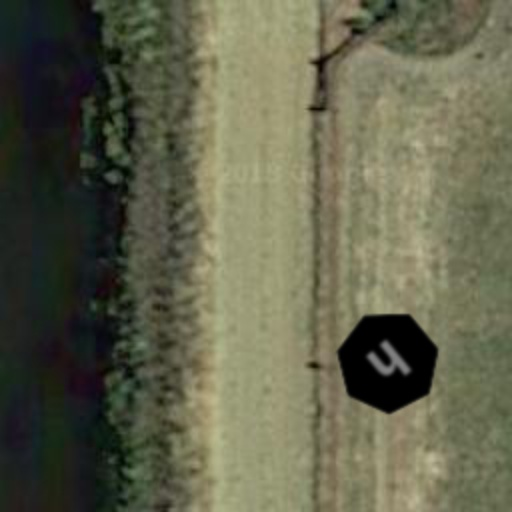heptagon: (312, 286, 464, 438)
